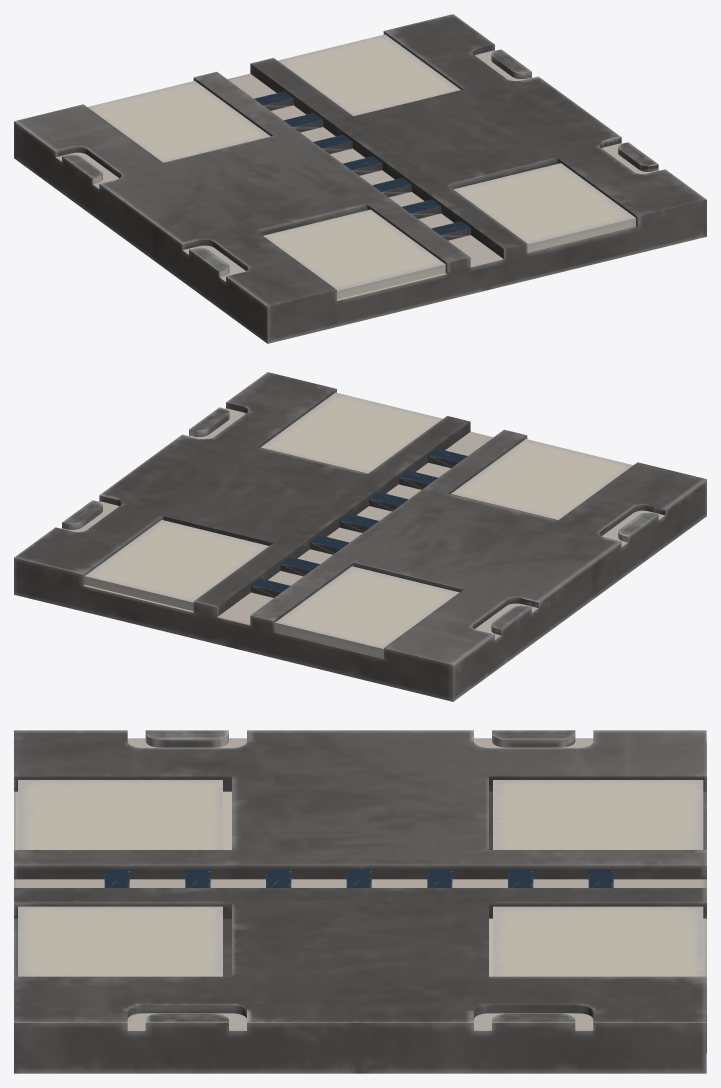
Rendered from FUT0510034.fbx.
The picture shows the model from 3 angles, top to bottom: view 1: azimuth 30°, elevation 25°; view 2: azimuth 150°, elevation 25°; view 3: azimuth 270°, elevation 25°; orthographic projection. The views are drawn at different scales.
Visible parts, largest first — view 1: smFUT0510034; view 2: smFUT0510034; view 3: smFUT0510034.
Boxes of the visible parts, x1,y1,x2,y2 form: smFUT0510034: [14, 14, 706, 343]; smFUT0510034: [14, 372, 706, 701]; smFUT0510034: [14, 730, 706, 1073].
Bounding box in the file's own units: 168 × 13.53 × 168.
Materials: 1 (1 with a texture image).
